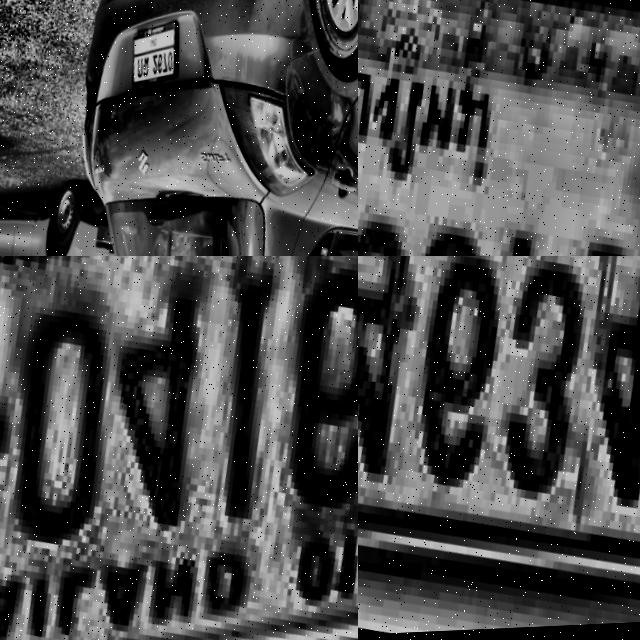license-plate: (0, 256, 358, 640), (358, 256, 640, 640), (358, 0, 640, 256), (117, 13, 185, 100)
